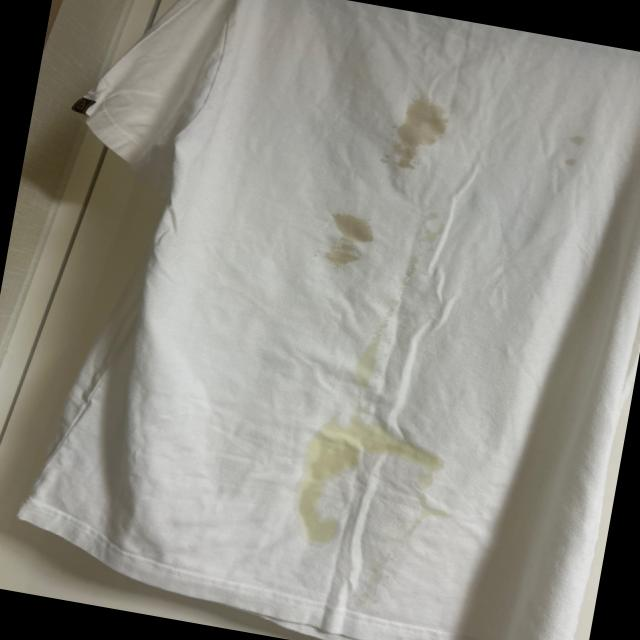stain: (292, 404, 462, 561), (379, 88, 456, 174), (316, 200, 374, 274), (352, 306, 396, 391), (409, 210, 449, 245), (564, 129, 598, 160), (400, 254, 430, 286), (546, 149, 580, 168)
